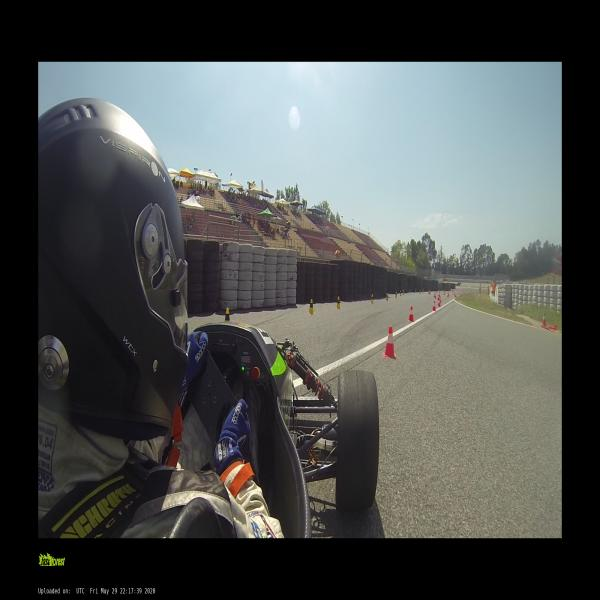orange_cone: (383, 326, 398, 358), (408, 306, 415, 321), (542, 313, 546, 327), (432, 300, 436, 311), (438, 298, 441, 306), (439, 296, 441, 302), (438, 294, 440, 300), (435, 293, 436, 298), (434, 292, 435, 297), (448, 293, 449, 297), (454, 294, 456, 296), (455, 294, 456, 297), (449, 293, 449, 296)
yellow_cone: (308, 299, 315, 314), (224, 308, 230, 322), (335, 296, 341, 309), (370, 294, 374, 303), (386, 293, 388, 301), (395, 291, 397, 298), (400, 290, 402, 296), (402, 289, 404, 295), (423, 289, 424, 292), (404, 289, 404, 294), (410, 289, 410, 293), (416, 288, 416, 293), (420, 290, 420, 294), (422, 290, 422, 294), (429, 291, 429, 294), (430, 291, 430, 294), (430, 289, 430, 292)
